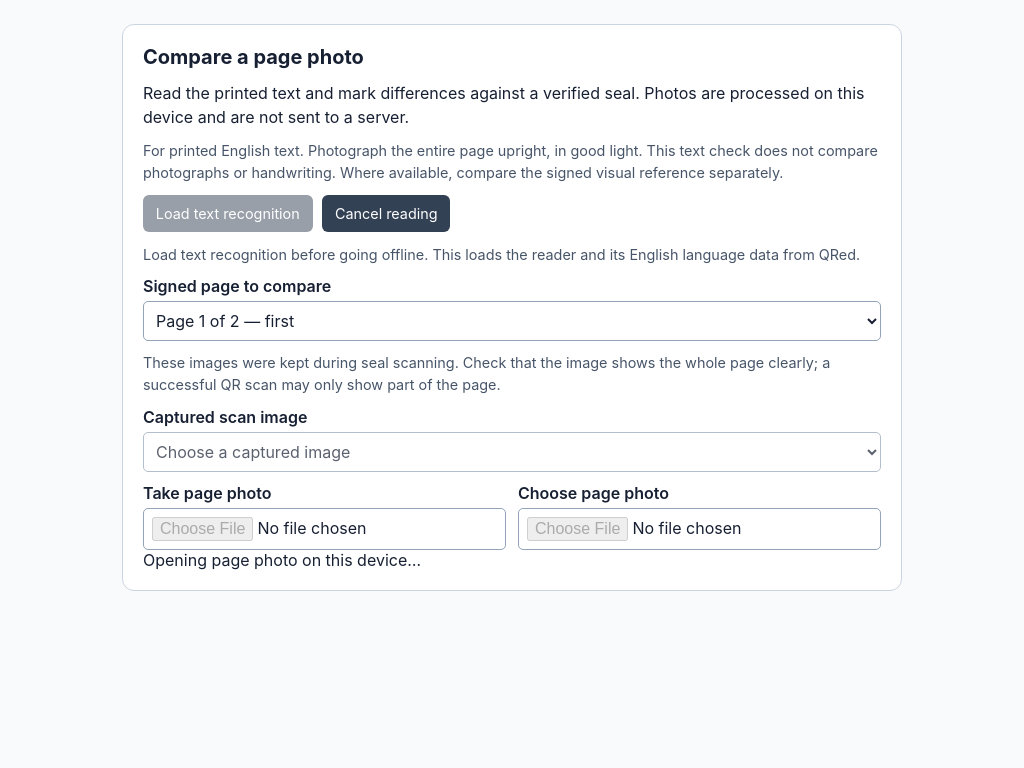
it: does not let a slow image load replace the newly selected page
Select "Page 2 of 2 — second" in the dropdown labelled "Signed page to compare" at (512, 321), box x1=143 y1=301 x2=881 y2=341
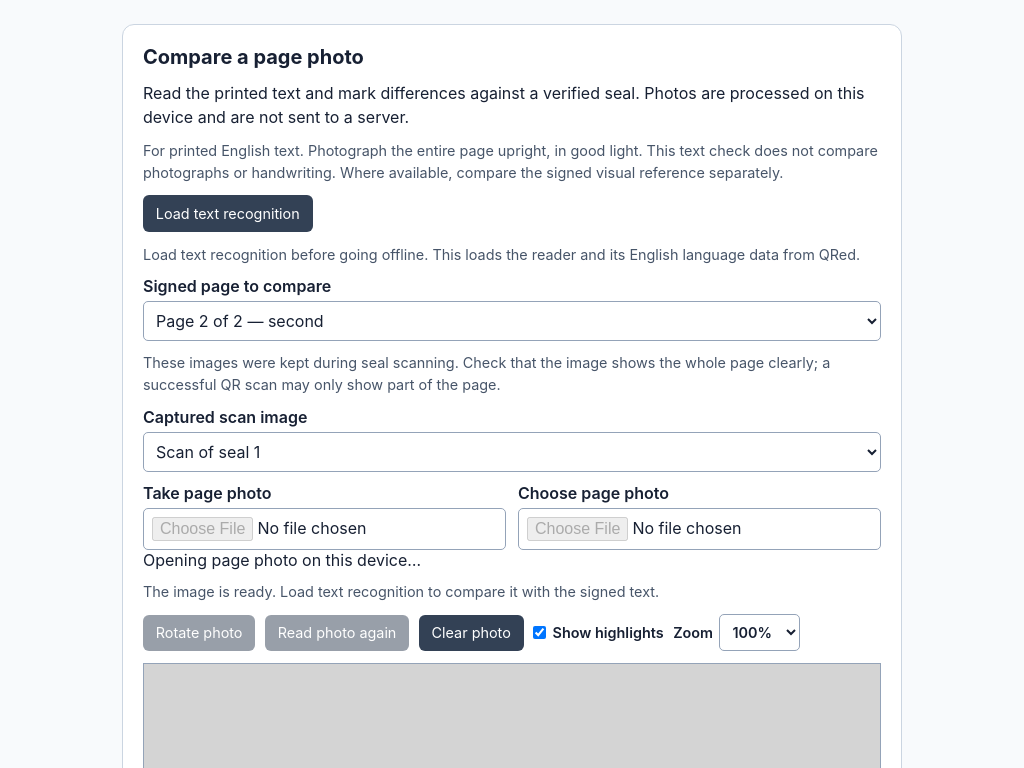
Result: the dropdown labelled "Captured scan image" shows "Scan of seal 1" at x1=143 y1=432 x2=881 y2=472
